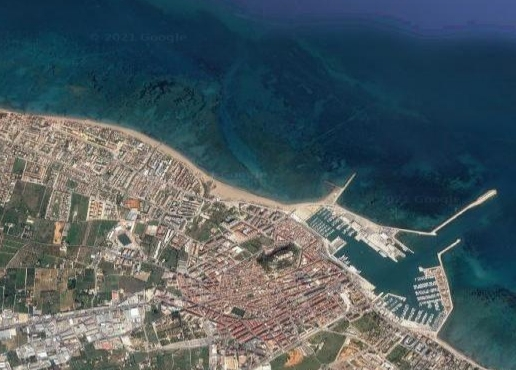harbor: (296, 166, 506, 339)
industrial: (1, 291, 145, 370)
